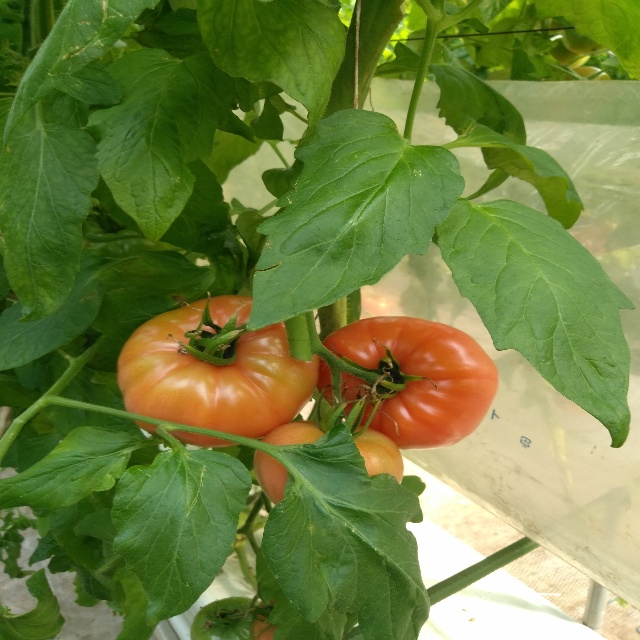b_green: (190, 596, 259, 640)
b_half_ripened: (116, 294, 321, 448), (316, 316, 499, 450), (254, 420, 404, 515)
